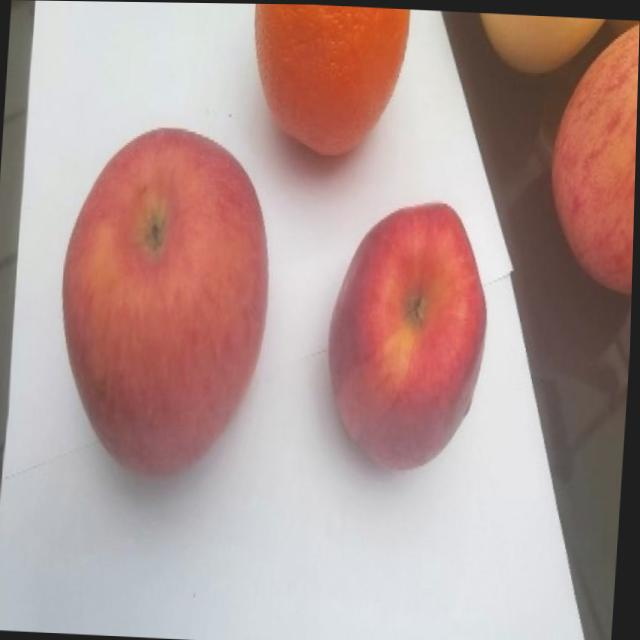Apple: (52, 123, 281, 483), (322, 197, 496, 474), (544, 15, 640, 293)
Orange: (246, 3, 411, 158)
